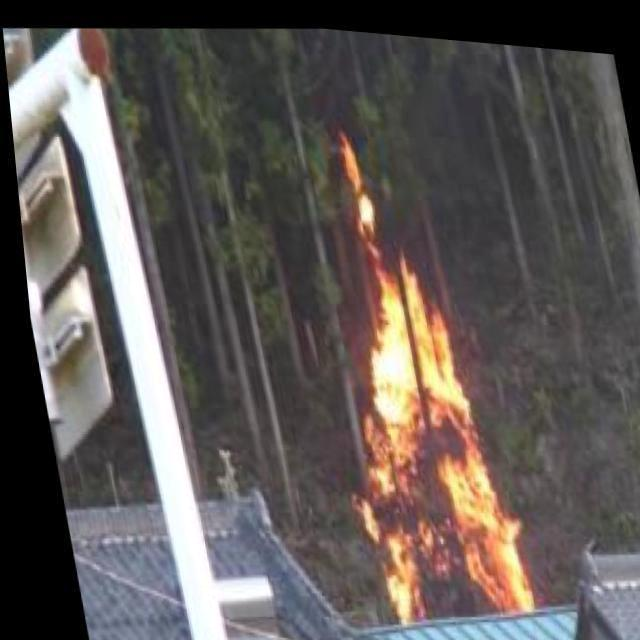fire: (284, 115, 526, 629)
